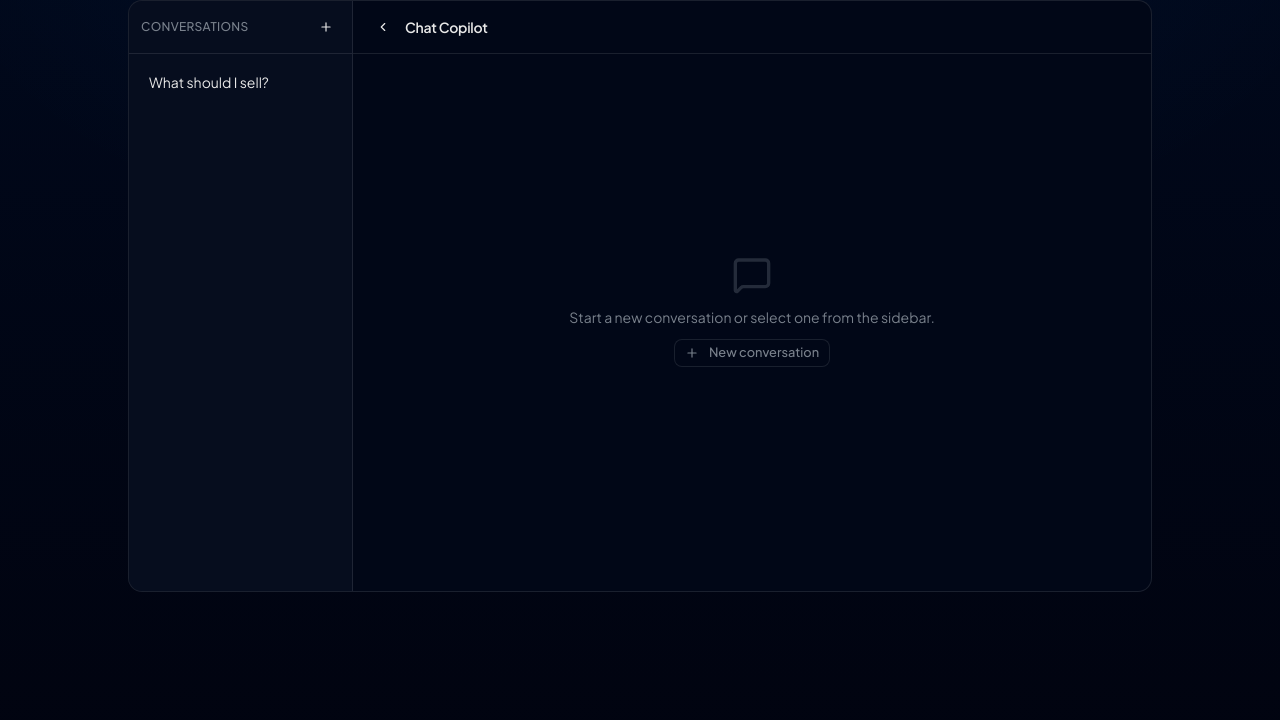
Test: ChatPage — send message › shows thinking indicator while waiting for reply
(page scrolled)
Click the button with test id "session-item".
click(240, 82)  # box [137,62,344,102]
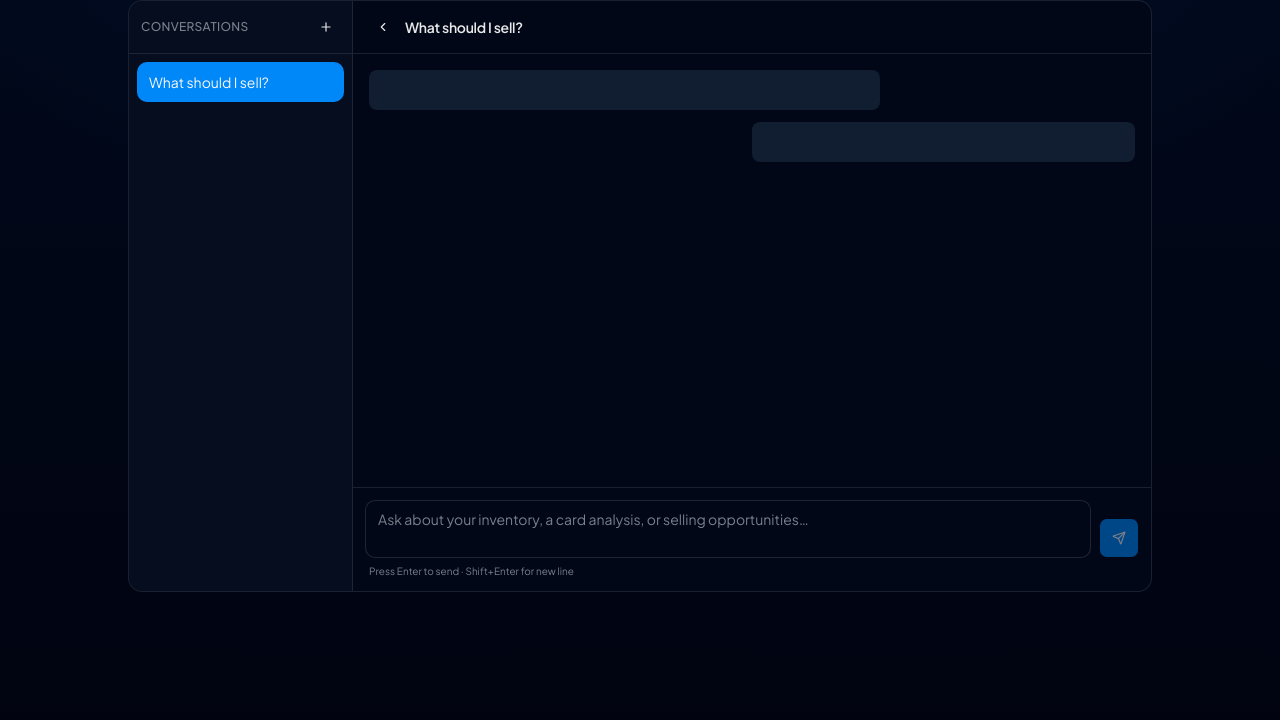
Result: the text box with test id "chat-input" is shown
Replace the text in the text box with test id "chat-input" with "Which cards should I sell?" at (728, 529), box [365,500,1091,558]
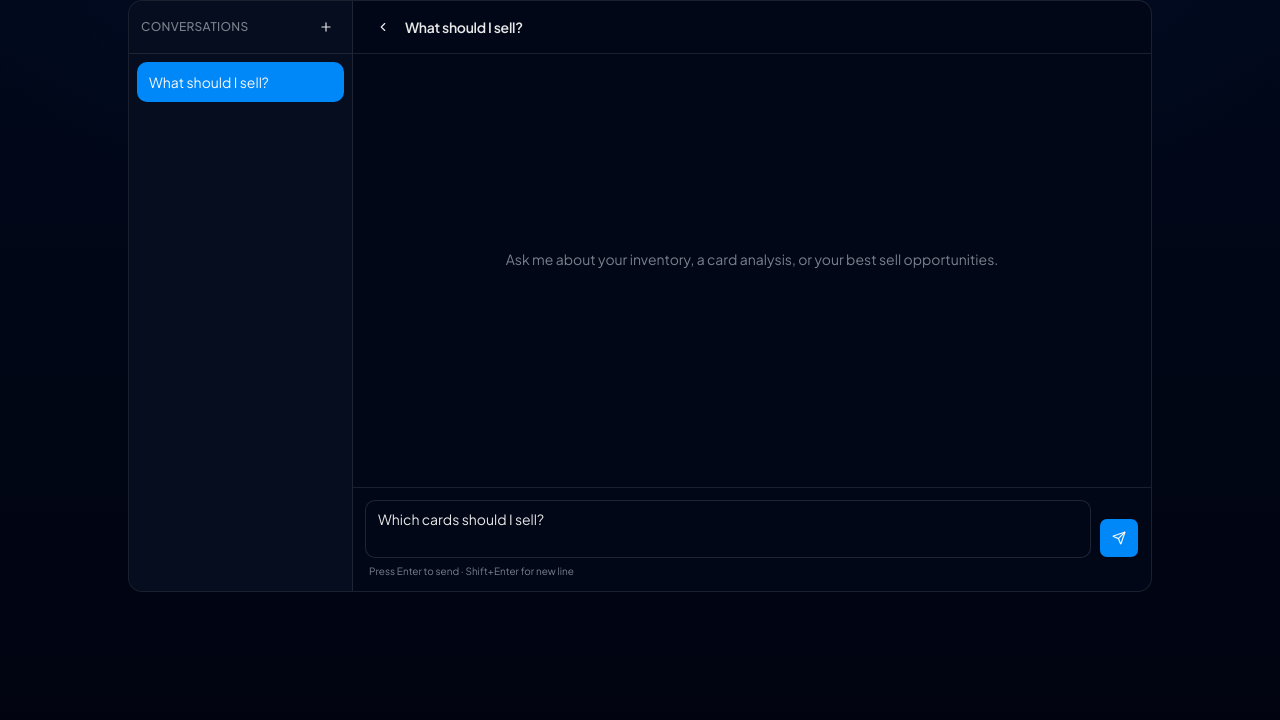
Click the button with test id "send-button".
click(1119, 538)  # box [1099,518,1139,558]
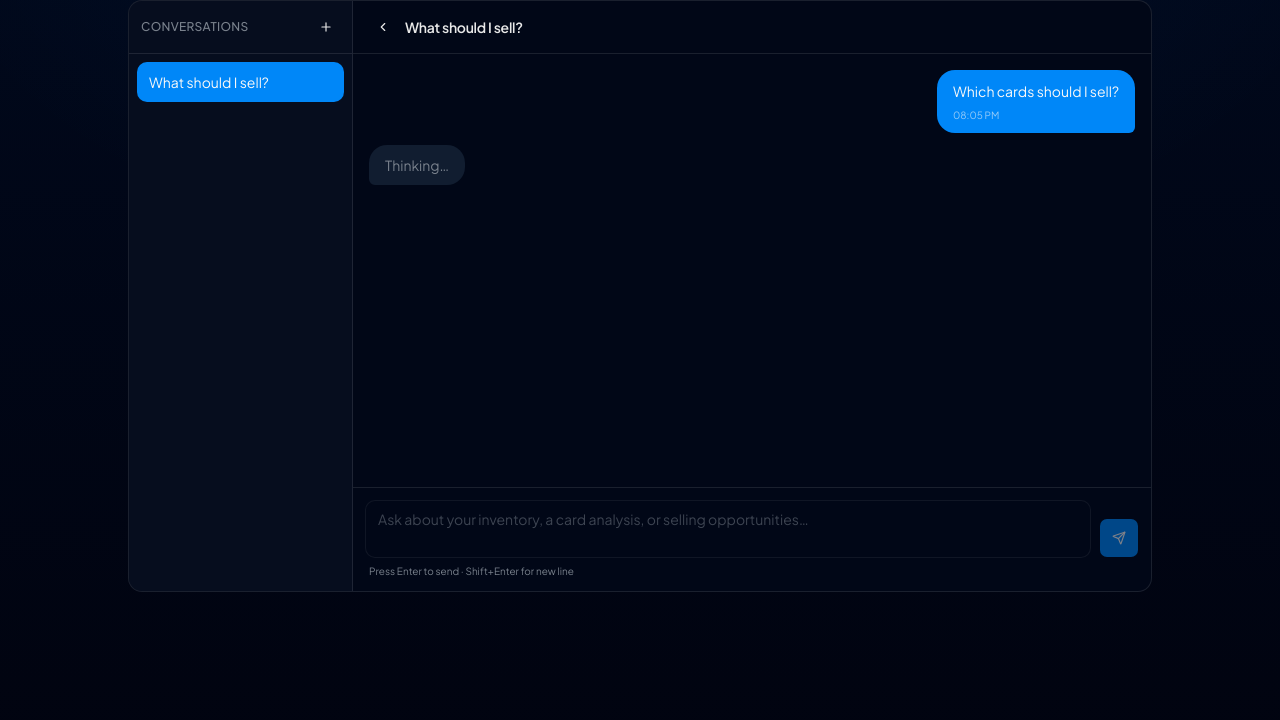
Result: the element with test id "thinking-indicator" is shown at [369,145,465,185]
